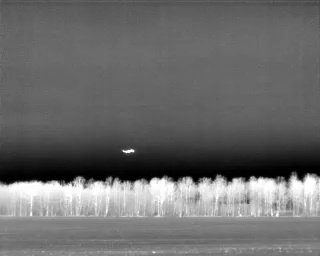DRONE: (118, 144, 139, 159)
